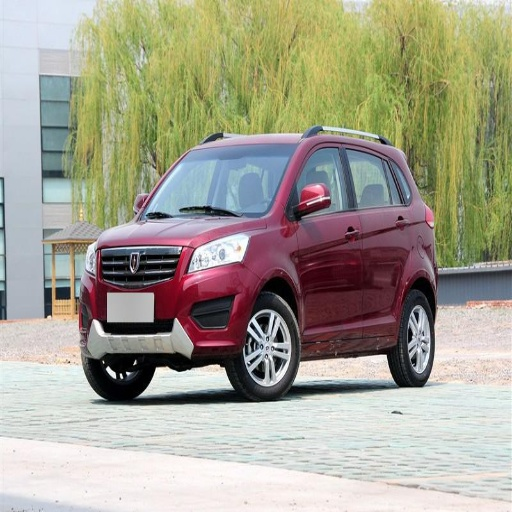front_bumper: (79, 247, 256, 357)
front_glass: (142, 145, 296, 215)
front_left_door: (289, 141, 362, 340)
